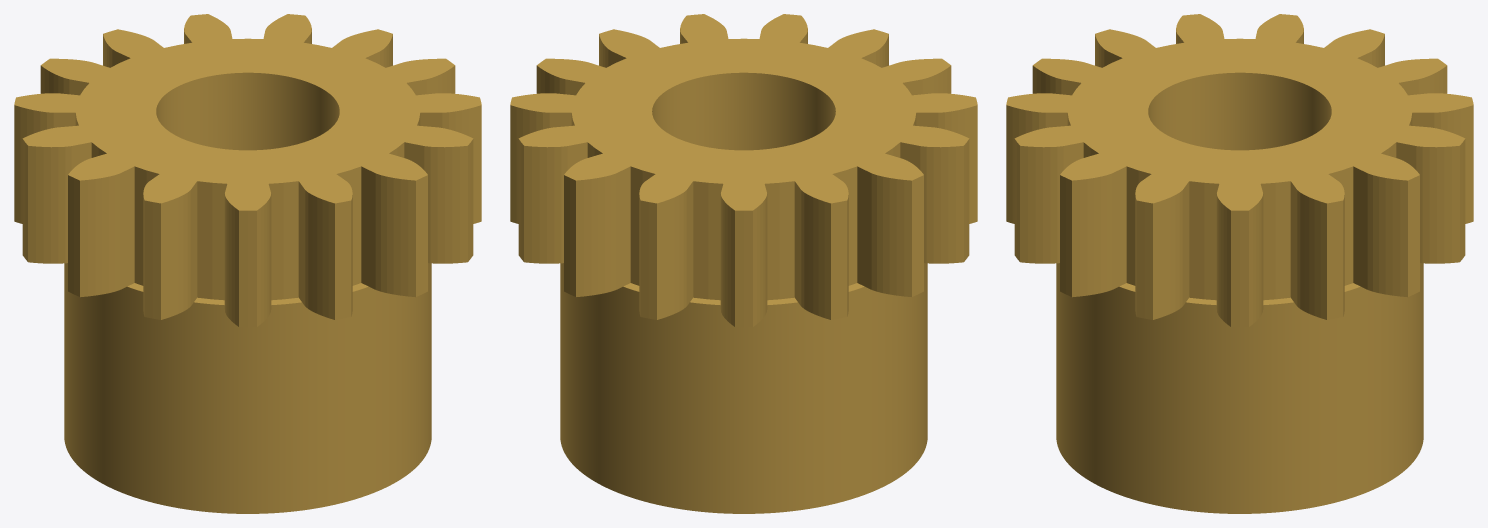
Rendered from gear_m03_z15_753015.glb.
3 renders of one model, left to right at view 1: azimuth 30°, elevation 25°; view 2: azimuth 150°, elevation 25°; view 3: azimuth 270°, elevation 25°, orthographic.
Parts seen in each view (by area): view 1: gear; view 2: gear; view 3: gear.
Part boxes in pixels (box(x1,y1,x2,y2)): gear: box(14, 14, 481, 513); gear: box(510, 14, 977, 513); gear: box(1006, 14, 1473, 513).
Bounding box in the file's own units: 0.00506 × 0.0039 × 0.00509.
